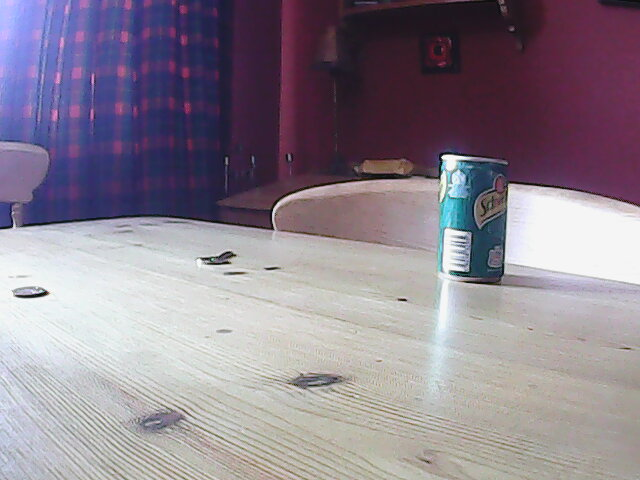Can: (429, 148, 515, 286)
Coin: (9, 284, 50, 298)
Key: (196, 247, 238, 268)
